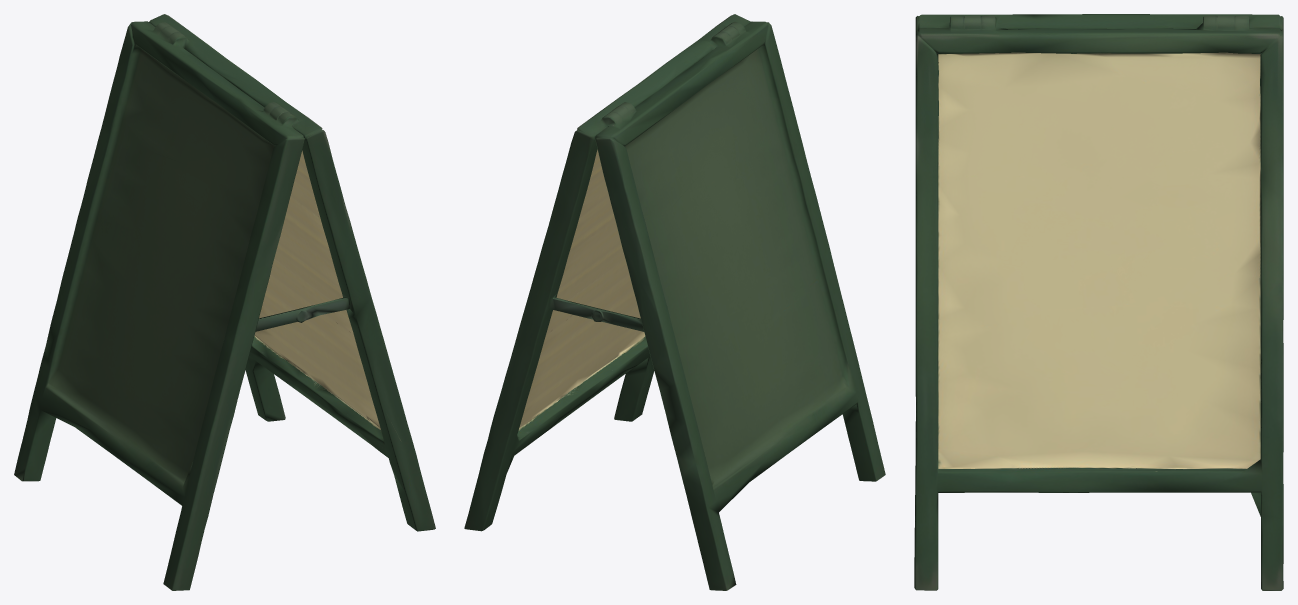
Rendered from tripo_convert_7e440bae-b6e7-4b00-84e5-17ab950bf9bb.glb.
The picture shows the model from 3 angles, left to right: view 1: azimuth 30°, elevation 25°; view 2: azimuth 150°, elevation 25°; view 3: azimuth 270°, elevation 25°; orthographic projection. The views are drawn at different scales.
Parts seen in each view (by area): view 1: tripo_node_7e440bae-b6e7-4b00-84e5-17ab950bf9bb; view 2: tripo_node_7e440bae-b6e7-4b00-84e5-17ab950bf9bb; view 3: tripo_node_7e440bae-b6e7-4b00-84e5-17ab950bf9bb.
Boxes of the visible parts, <box> form: tripo_node_7e440bae-b6e7-4b00-84e5-17ab950bf9bb: <box>14,14,435,590</box>; tripo_node_7e440bae-b6e7-4b00-84e5-17ab950bf9bb: <box>464,14,885,590</box>; tripo_node_7e440bae-b6e7-4b00-84e5-17ab950bf9bb: <box>914,14,1283,590</box>.
Size of the model in its own units: 0.6218 by 0.98 by 0.6523.
Materials: 1 (1 with a texture image).
